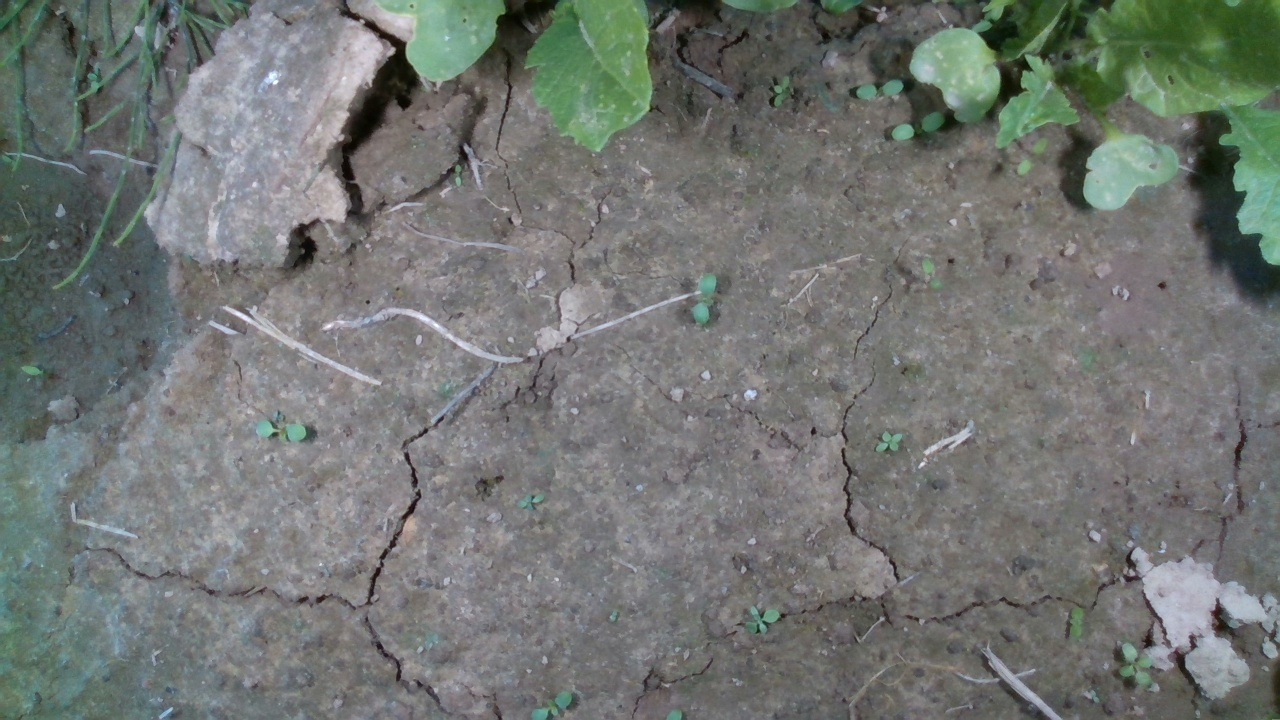weed: (1115, 641, 1155, 690), (890, 111, 945, 142), (691, 270, 718, 328), (253, 418, 308, 445), (744, 604, 780, 637), (855, 77, 904, 101), (875, 428, 903, 454), (771, 73, 791, 109), (1067, 605, 1085, 640), (453, 162, 462, 188)
